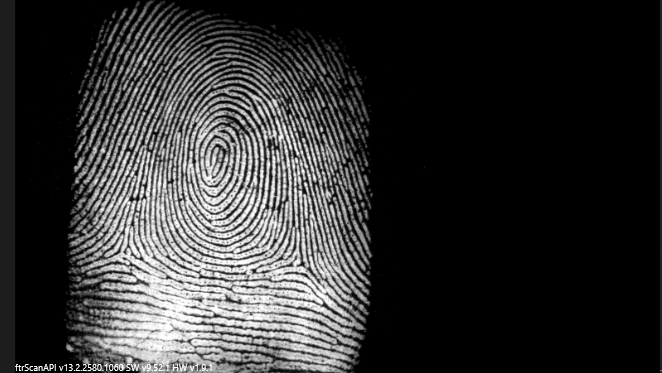deltas: (271, 232, 317, 283), (102, 225, 147, 276)
nucleo: (185, 131, 244, 182)
